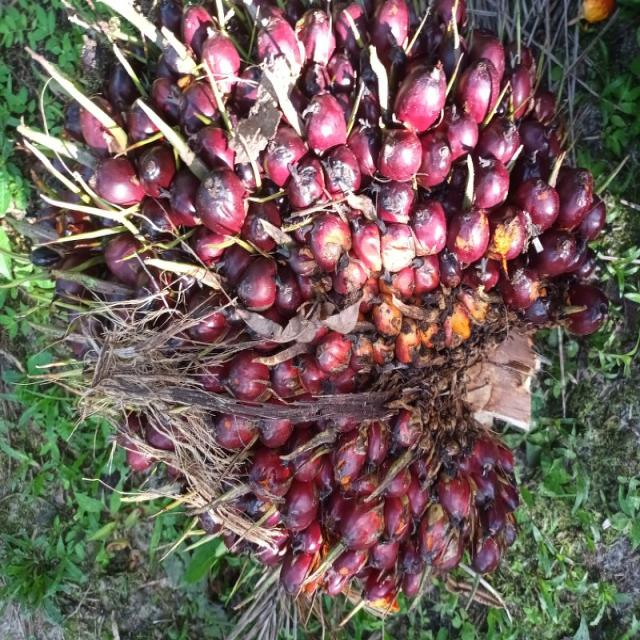fraksi 1: (0, 34, 443, 640)
